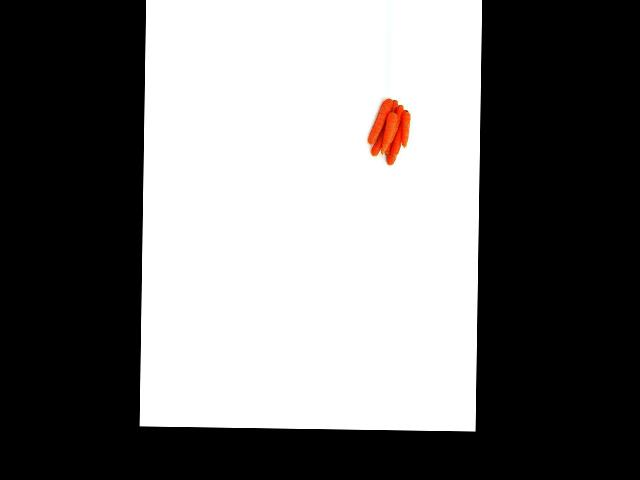carrot: (366, 95, 394, 143)
